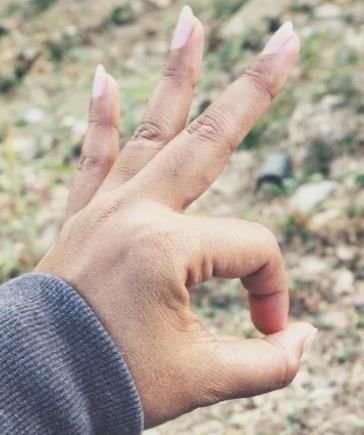left: (41, 5, 322, 419)
